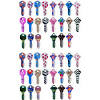key: (19, 1, 26, 16), (50, 1, 57, 16), (74, 1, 81, 16), (74, 17, 81, 32), (66, 16, 73, 31), (58, 17, 65, 32), (50, 17, 57, 32), (42, 17, 49, 32), (35, 17, 42, 32), (27, 17, 34, 32), (20, 17, 27, 32), (20, 33, 27, 48), (27, 33, 34, 48), (35, 33, 42, 48), (50, 32, 57, 47), (58, 32, 65, 47), (66, 32, 73, 47), (19, 52, 26, 67), (27, 52, 34, 67), (34, 52, 41, 67), (41, 52, 48, 67), (50, 52, 57, 67), (58, 52, 65, 67), (66, 52, 73, 67), (74, 53, 81, 68), (74, 68, 81, 83), (66, 68, 73, 83), (58, 68, 65, 83), (50, 69, 57, 84), (42, 68, 49, 83), (34, 69, 41, 84), (27, 68, 34, 83), (19, 68, 26, 83), (20, 84, 27, 99), (27, 84, 34, 99), (35, 84, 42, 99), (50, 84, 57, 99), (58, 84, 65, 99), (66, 84, 73, 99), (27, 1, 34, 15), (34, 1, 41, 15), (42, 1, 49, 15), (58, 1, 65, 15), (66, 1, 73, 15)
